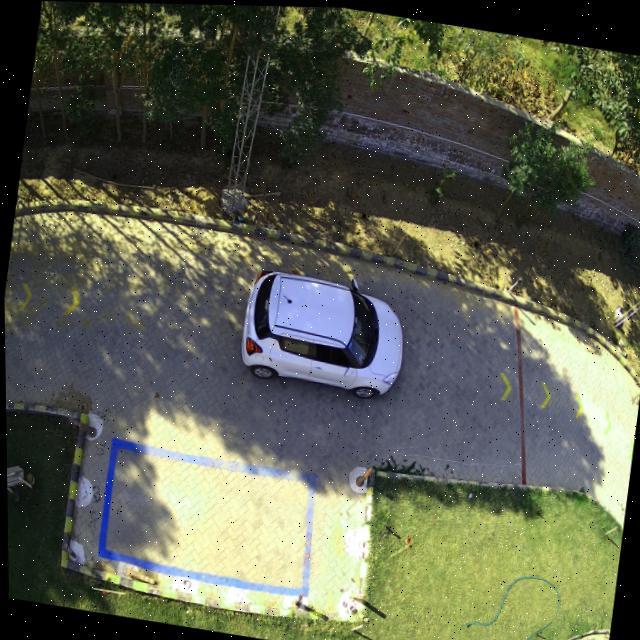car: (240, 269, 402, 396)
